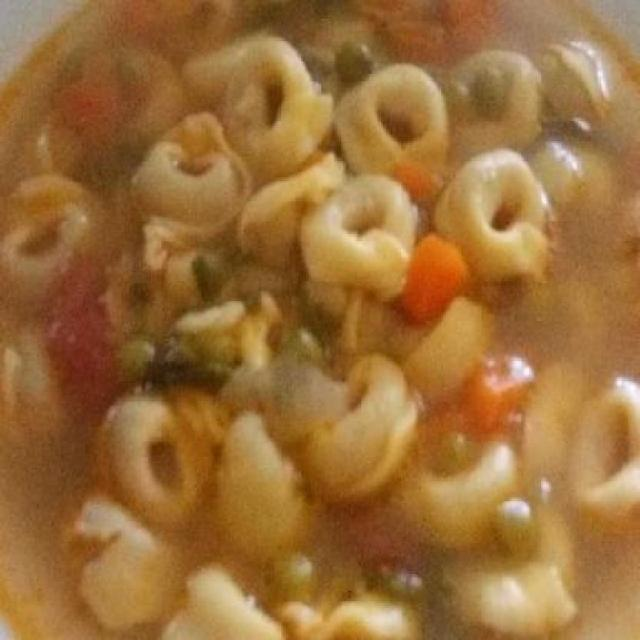Tortellini in broth: (33, 26, 619, 608)
